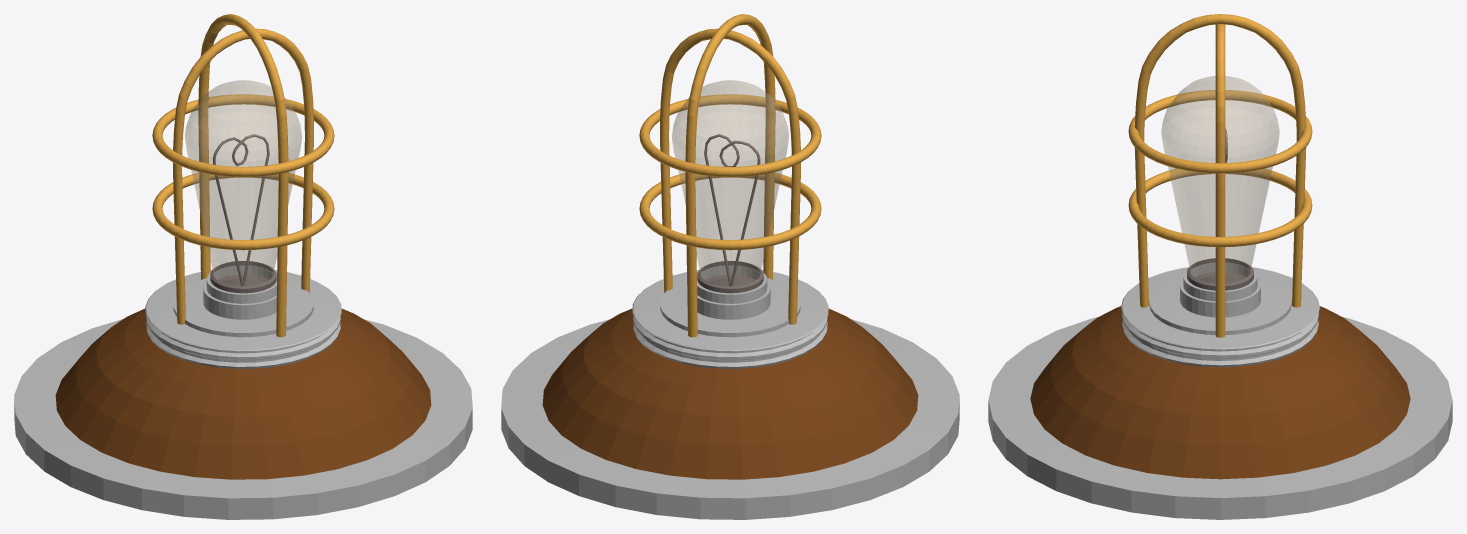
Rendered from Lamp.dae.
3 views of the same model, side by side, from view 1: azimuth 30°, elevation 25°; view 2: azimuth 150°, elevation 25°; view 3: azimuth 270°, elevation 25° (orthographic).
Parts seen in each view (by area): view 1: Lamp; view 2: Lamp; view 3: Lamp.
Part boxes in pixels (x1,y1,x2,y2): Lamp: (14, 14, 472, 519); Lamp: (501, 14, 959, 519); Lamp: (988, 14, 1452, 519).
Bounding box in the file's own units: 2.22 × 2.22 × 2.15.
